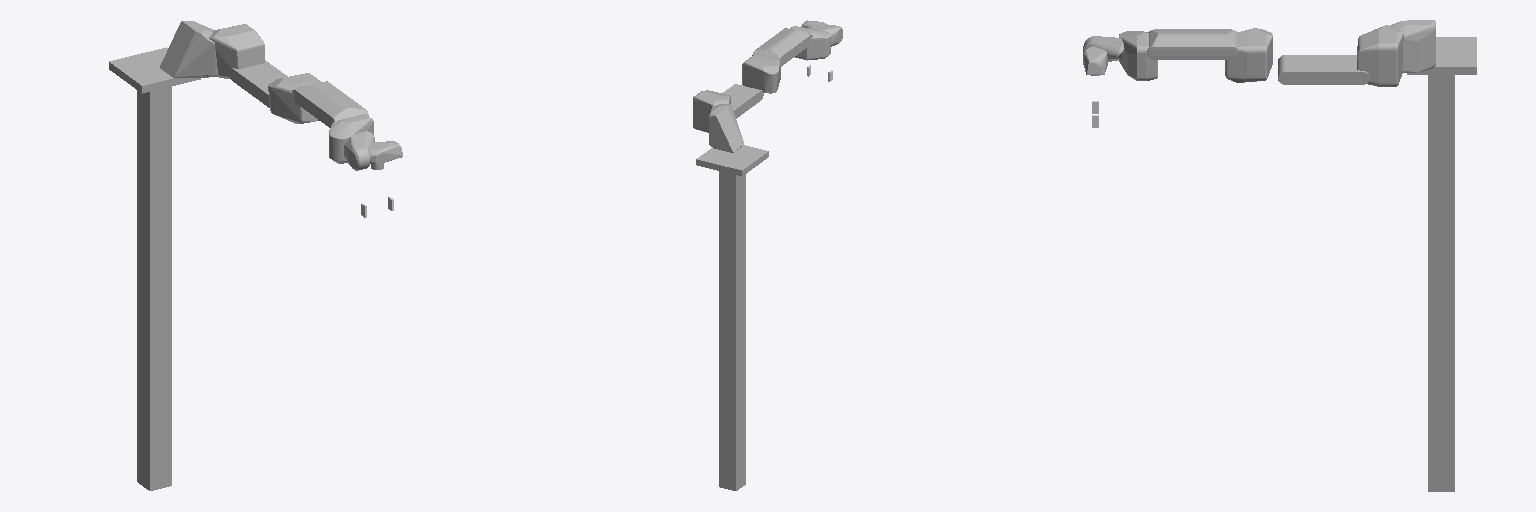
--- What the picture shows (computed from the rendered views, not written in the file) ---
Views: 3 orthographic renders of the robot side by side, from view 1: azimuth 30°, elevation 25°; view 2: azimuth 150°, elevation 25°; view 3: azimuth 270°, elevation 25°.
Model Scorpio with 31 links and 30 joints (7 revolute, 10 continuous, 13 fixed), rooted at world, posed every joint at zero.
Links seen in each view (by area): view 1: tower, scorpio_ground, link1, link6, link5, link4, link7, link9, scorpio_wrist_pitch; view 2: tower, scorpio_ground, link5, link6, link1, link7, link4; view 3: tower, link6, link4, link1, link5, scorpio_ground, link7, link9, scorpio_wrist_pitch.
Link boxes in pixels (left/top/right/bottom): tower: left=109, top=47, right=200, bottom=490; scorpio_ground: left=160, top=21, right=217, bottom=77; link1: left=209, top=24, right=264, bottom=78; link6: left=292, top=81, right=368, bottom=127; link5: left=268, top=73, right=320, bottom=123; link4: left=230, top=60, right=287, bottom=107; link7: left=329, top=114, right=373, bottom=163; link9: left=344, top=131, right=374, bottom=170; scorpio_wrist_pitch: left=370, top=141, right=402, bottom=163; tower: left=696, top=145, right=768, bottom=490; scorpio_ground: left=709, top=104, right=743, bottom=152; link5: left=742, top=54, right=780, bottom=93; link6: left=752, top=28, right=812, bottom=66; link1: left=693, top=90, right=730, bottom=132; link7: left=790, top=26, right=830, bottom=60; link4: left=722, top=84, right=763, bottom=118; tower: left=1407, top=37, right=1476, bottom=491; link6: left=1147, top=29, right=1238, bottom=59; link4: left=1278, top=55, right=1369, bottom=84; link1: left=1357, top=25, right=1403, bottom=86; link5: left=1225, top=28, right=1272, bottom=82; scorpio_ground: left=1390, top=20, right=1435, bottom=72; link7: left=1119, top=31, right=1157, bottom=80; link9: left=1083, top=36, right=1123, bottom=61; scorpio_wrist_pitch: left=1083, top=46, right=1107, bottom=74.
Size in the robot's own frame: 0.3684 by 1.13 by 1.51 metres.
Meshes: 16 distinct files referenced, 8 mesh visuals loaded (8 Collada DAE); not drawn: 12 (reference not matched to a file when rendering).

URDF robot description (Scorpio):
<?xml version="1.0" ?>
<robot name="Scorpio" xmlns:xacro="http://www.ros.org/wiki/xacro">
    <gazebo>
        <plugin name="gazebo_scorpio" filename="libgazebo_scorpio_plugin.so"></plugin>
    </gazebo>
    <link name="world">
    <inertial>
      <origin xyz="0 0 0" rpy="0 0 0" />
      <mass value="0.1" />
      <inertia ixx="0.1" ixy="0.1" ixz="0.1" iyy="0.1" iyz="0.1" izz="0.1" />
    </inertial>
   </link>
   <joint name="tower_mount" type="fixed">
    <!--<origin rpy="0 0 -1.57" xyz="3.5 1.0 0.5"/>-->
    <origin rpy="0 0 -1.57" xyz="0 0 0.5"/>
    <parent link="world"/>
    <child link="tower"/>
   </joint>
  <link name="tower">
    <inertial>
      <origin rpy="0 0 0" xyz="0 0 0.3937"/>
      <mass value="0.1"/>
      <inertia ixx="0.1" ixy="0" ixz="0" iyy="0.1" iyz="0" izz="0.1"/>
    </inertial>
    <visual>
      <origin rpy="0 0 0" xyz="0 0 0.7749"/>
      <geometry>
        <box size="0.200 0.200 0.025"/>
      </geometry>
      <material name="">
        <color rgba="0.75294 0.75294 0.75294 1"/>
      </material>
    </visual>
    <visual>
      <origin rpy="0 0 0" xyz="0 0 0.1"/>
      <geometry>
        <box size="0.0762 0.0762 1.3624"/>
        <!--<box size="0.0762 0.0762 1.7624"/>-->
      </geometry>
      <material name="">
        <color rgba="0.75294 0.75294 0.75294 1"/>
      </material>
    </visual>
  </link>
  <joint name="scorpio_mount" type="fixed">
    <origin rpy="0 0 0" xyz="0.0625 0.0625 0.7874"/>
    <parent link="tower"/>
    <child link="scorpio_mount"/>
  </joint>
  <link name="scorpio_mount">
    <inertial>
      <origin rpy="0 0 0" xyz="0 0 0"/>
      <mass value="0.001"/>
      <inertia ixx="0.0001" ixy="0" ixz="0" iyy="0.0001" iyz="0" izz="0.0001"/>
    </inertial>
  </link>
  <joint name="scorpio_ground" type="fixed">
    <origin rpy="0 0 0" xyz="0.075 0.065 0.087"/>
    <parent link="scorpio_mount"/>
    <child link="scorpio_ground"/>
  </joint>

  <link name="scorpio_ground">
    <inertial>
      <origin rpy="0 0 0" xyz="-0.023864 -0.016007 -0.014551"/>
      <mass value="1.3345"/>
      <inertia ixx="0.0015215" ixy="-0.0010805" ixz="-0.00043127" iyy="0.0022115" iyz="-0.00033943" izz="0.0024629"/>
    </inertial>
    <visual>
      <origin rpy="0 0 0" xyz="0 0 0"/>
      <geometry>
          <mesh filename="package://gazebo_scorpio_plugin/robots/meshes/scorpio_ground_hull.dae"/>
      </geometry>
      <material name="">
        <color rgba="0.75294 0.75294 0.75294 1"/>
      </material>
    </visual>
  </link>

 <joint name="joint1" type="continuous">
  <!--<origin rpy="0 0 0" xyz="0 0 -0.01812"/>-->
  <origin rpy="0 0 0" xyz="0 0 -0.01812"/>
    <parent link="scorpio_ground"/>
    <child link="link1"/>
    <axis xyz="0 0 1"/>
  </joint>

  <link name="link1">
    <inertial>
      <mass value="0.97105910"/>
      <origin rpy="0 0 0" xyz="0.04816471 0.06606926 -0.00752297"/>
      <inertia ixx="0.00212363" ixy="0.00002469" ixz="-0.00023024" iyy="0.00183055" iyz="-0.00000418" izz="0.00162100"/>
    </inertial>
    <visual>
      <origin rpy="0 0 0" xyz="0 0 0"/>
      <geometry>
        <mesh filename="package://gazebo_scorpio_plugin/robots/meshes/scorpio_yaw1_hull.dae"/>
      </geometry>
      <material name="">
        <color rgba="0.752941176470588 0.752941176470588 0.752941176470588 1"/>
      </material>
    </visual>
  </link>
  
   <joint name="joint2" type="continuous">
    <origin xyz="0.09 0.065 0.040025" rpy="-1.5708 0 0" />
    <parent link="link1" />
    <child link="link2" />
    <axis xyz="0 0 1" />
  </joint>

  <link name="link2">
  <inertial>
      <mass value="0.86101268"/>
      <origin rpy="0 0 0" xyz="0.12122970 -0.00077030 0.00730440"/>
      <inertia ixx="0.00102826" ixy="0.00002087" ixz="-0.00011564" iyy="0.00504132" iyz="-0.00000639" izz="0.00576250"/>
    </inertial>
    <visual>
      <origin rpy="1.5708 0 0" xyz="0 0 0"/>
      <geometry>
        <mesh filename="package://gazebo_scorpio_plugin/robots/meshes/parallel__scorpio_elev1__l3_hull.dae"/>
      </geometry>
      <material name="">
        <color rgba="0.752941176470588 0.752941176470588 0.752941176470588 1"/>
      </material>
    </visual>
  </link>

 <joint name="joint3" type="continuous">
    <origin xyz="0.22 0 0" rpy="0 0 0" />
    <parent link="link2" />
    <child link="link3" />
    <axis xyz="0 0 1" />
  </joint>

  <link name="link3">
     <inertial>
      <mass value="0.96506968"/>
      <origin rpy="0 0 0" xyz="0.05539938 -0.04550861 0.03305080"/>
      <inertia ixx="0.00194689" ixy="-0.00041897" ixz="-0.00001187" iyy="0.00108580" iyz="-0.00000204" izz="0.00181433"/>
    </inertial>
    <visual>
      <origin rpy="1.5708 0 0" xyz="0 0.075025 0"/>
      <geometry>
        <mesh filename="package://gazebo_scorpio_plugin/robots/meshes/parallel__scorpio_elev1__l2_hull.dae"/>
      </geometry>
      <material name="">
        <color rgba="0.752941176470588 0.752941176470588 0.752941176470588 1"/>
      </material>
    </visual>
  </link>
 
  <joint name="joint4" type="continuous">
    <origin xyz="0 0.075025 0" rpy="0 0 0" />
    <parent link="link3" />
    <child link="link4" />
    <axis xyz="0 0 1" />
  </joint>

  <link name="link4">
     <inertial>
      <mass value="1.09010204"/>
      <origin rpy="0 0 0" xyz="0.11968406 0.00015676 0.00077126"/>
      <inertia ixx="0.00163433" ixy="-0.00000800" ixz="-0.00013278" iyy="0.00610466" iyz="-0.00000123" izz="0.00721423"/>
    </inertial>
    <visual>
      <origin rpy="1.5708 0 0" xyz="-0.22 0 0"/>
      <geometry>
        <mesh filename="package://gazebo_scorpio_plugin/robots/meshes/parallel__scorpio_elev1__l1_hull.dae"/>
      </geometry>
      <material name="">
        <color rgba="0.752941176470588 0.752941176470588 0.752941176470588 1"/>
      </material>
    </visual>
  </link>


  <joint name="joint5" type="continuous">
    <origin xyz="0.065 0.035 -0.065" rpy="1.5708 0 0" />
    <parent link="link3" />
    <child link="link5" />
    <axis xyz="0 0 1" />
  </joint>


  <link name="link5">
    <inertial>
      <mass value="0.93229200"/>
      <origin rpy="0 0 0" xyz="0.04880378 0.06574464 -0.00765844"/>
      <inertia ixx="0.00175861" ixy="0.00003237" ixz="-0.00022338" iyy="0.00151576" iyz="-0.00000289" izz="0.00153999"/>
    </inertial>
    <visual>
      <origin rpy="0 0 0" xyz="0 0 0"/>
      <geometry>
        <mesh filename="package://gazebo_scorpio_plugin/robots/meshes/scorpio_yaw2_hull.dae"/>
      </geometry>
      <material name="">
        <color rgba="0.752941176470588 0.752941176470588 0.752941176470588 1"/>
      </material>
    </visual>
  </link>
 
  <joint name="joint6" type="continuous">
    <origin xyz="0.09 0.065 0.040025" rpy="-1.5708 0 0" />
    <parent link="link5" />
    <child link="link6" />
    <axis xyz="0 0 1" />
  </joint>

  <link name="link6">
  <inertial>
      <mass value="0.86101268"/>
      <origin rpy="0 0 0" xyz="0.12122970 -0.00077030 0.00730440"/>
      <inertia ixx="0.00102826" ixy="0.00002087" ixz="-0.00011564" iyy="0.00504132" iyz="-0.00000639" izz="0.00576250"/>
    </inertial>
    <visual>
      <origin rpy="1.5708 0 0" xyz="0 0 0"/>
      <geometry>
        <mesh filename="package://gazebo_scorpio_plugin/robots/meshes/parallel__scorpio_elev2__l3_hull.dae"/>
      </geometry>
      <material name="">
        <color rgba="0.752941176470588 0.752941176470588 0.752941176470588 1"/>
      </material>
    </visual>
  </link>

 <joint name="joint7" type="continuous">
    <origin xyz="0.22 0 0" rpy="0 0 0" />
    <parent link="link6" />
    <child link="link7" />
    <axis xyz="0 0 1" />
  </joint>

  <link name="link7">
    <inertial>
      <mass value="0.79358667"/>
      <origin rpy="0 0 0" xyz="0.06851225 0.00134854 0.02888846"/>
      <inertia ixx="0.00084161" ixy="-0.00004494" ixz="-0.00003202" iyy="0.00100312" iyz="0.00000025" izz="0.00102847"/>
    </inertial>
    <visual>
      <origin rpy="1.5708 0 0" xyz="0 0.075025 0"/>
      <geometry>
        <mesh filename="package://gazebo_scorpio_plugin/robots/meshes/parallel__scorpio_elev2__l2_hull.dae"/>
      </geometry>
      <material name="">
        <color rgba="0.752941176470588 0.752941176470588 0.752941176470588 1"/>
      </material>
    </visual>
  </link>

  <joint name="joint8" type="continuous">
    <origin xyz="0 0.075025 0" rpy="0 0 0" />
    <parent link="link7" />
    <child link="link8" />
    <axis xyz="0 0 1" />
  </joint>
 
  <link name="link8"> 
    <inertial>
      <mass value="1.09010204"/>
      <origin rpy="0 0 0" xyz="0.11968406 0.00015676 0.00077126"/>
      <inertia ixx="0.00163433" ixy="-0.00000800" ixz="-0.00013278" iyy="0.00610466" iyz="-0.00000123" izz="0.00721423"/>
    </inertial>
    <visual>
      <origin rpy="1.5708 0 0" xyz="-0.22 0 0"/>
      <geometry>
        <mesh filename="package://gazebo_scorpio_plugin/robots/meshes/parallel__scorpio_elev2__l1_hull.dae"/>
      </geometry>
      <material name="">
        <color rgba="0.752941176470588 0.752941176470588 0.752941176470588 1"/>
      </material>
    </visual>
  </link>

  <link name="link7_end">
    <inertial>
      <origin xyz="0 0 0" rpy="0 0 0" />
      <!--<mass value="0.00000001" />-->
      <!--<inertia ixx="1.e-9" ixy="0.0" ixz="0.0" iyy="1.e-9" iyz="0.0" izz="1.e-9" />-->
      <mass value="0.00001" />
      <inertia ixx="0.00001" ixy="0.0" ixz="0.0" iyy="0.00001" iyz="0.0" izz="0.00001" />
    </inertial>
  </link>

  <joint name="link7_end" type="fixed">
    <origin xyz="0 0.075025 0" rpy="1.5708 0 0" />
    <parent link="link7" />
    <child link="link7_end" />
  </joint>

  <joint name="joint9" type="continuous">
    <origin rpy="0 -0.7854 0" xyz="0.10096 0 0.048529"/>
    <parent link="link7_end" />
    <child link="link9" />
    <axis xyz="0 0 1" />
  </joint>

  <link name="link9">
   <inertial>
      <mass value="0.61742656"/>
      <origin rpy="0 0 0" xyz="0.02618812 -0.06026687 -0.05029391"/>
      <inertia ixx="0.00049346" ixy="-0.00005954" ixz="-0.00015627" iyy="0.00067920" iyz="0.00009425" izz="0.00043236"/>
    </inertial>
    <visual>
      <origin rpy="0 0 0" xyz="0 0 0"/>
      <geometry>
        <mesh filename="package://gazebo_scorpio_plugin/robots/meshes/scorpio_wrist_skewed_hull.dae"/>
      </geometry>
      <material name="">
        <color rgba="0.752941176470588 0.752941176470588 0.752941176470588 1"/>
      </material>
    </visual>
  </link>

  <joint name="joint10" type="continuous">
     <!--<joint name="wrist_pitch" type="fixed"> -->
    <origin rpy="0 0.7854 0" xyz="0.034604 -0.04372 -0.060104"/>
    <parent link="link9"/>
    <child link="scorpio_wrist_pitch"/>
    <axis xyz="0 1 0"/>
    <limit effort="200" lower="-2.2000000" upper="1.0000000" velocity="0"/>
  </joint>

  <link name="scorpio_wrist_pitch">
    <inertial>
      <mass value="0.56501641"/>
      <origin rpy="0 0 0" xyz="-0.00022504 0.05030401 0.00234299"/>
      <inertia ixx="0.00042006" ixy="-0.00000558" ixz="0.00000093" iyy="0.00021226" iyz="-0.00001417" izz="0.00052578"/>
    </inertial>
    <visual>
      <origin rpy="0 0 0" xyz="0 0 0"/>
      <geometry>
        <mesh filename="package://gazebo_scorpio_plugin/robots/meshes/scorpio_wrist_pitch_hull.dae"/>
      </geometry>
      <material name="">
        <color rgba="0.752941176470588 0.752941176470588 0.752941176470588 1"/>
      </material>
    </visual>
  </link>
  <!--===========================WRIST ROLL PRE FT===========================-->
   <!--<joint name="joint11" type="continuous"> -->
  <joint name="joint11" type="revolute">
     <!--<joint name="wrist_roll" type="fixed"> -->
    <origin rpy="0 0 1.5708" xyz="0 0.04372 -0.01728"/>
    <parent link="scorpio_wrist_pitch"/>
    <child link="gripper_attachment_point"/>
    <axis xyz="0 0 1"/>
    <limit effort="200" lower="-3.1416" upper="3.1416" velocity="0"/>
  </joint>
  <link name="gripper_attachment_point">
    <inertial>
      <origin rpy="0 0 0" xyz="0.000 0.000 0.000"/>
      <mass value="0.001"/>
      <inertia ixx="0.0001" ixy="0" ixz="0" iyy="0.0001" iyz="0" izz="0.0001"/>
    </inertial>
  </link>
  <!--===========================FT SENSOR TODO: MASS===========================-->

  <joint name="wrist_ft" type="fixed">
    <origin rpy="0 0 0" xyz="0.000 0.000 -0.028"/>
    <parent link="gripper_attachment_point"/>
    <child link="wrist_ft"/>
   </joint>

  <link name="wrist_ft">
    <inertial>
      <origin rpy="0 0 0" xyz="0.000 0.000 0.000"/>
      <mass value="0.050"/>
      <inertia ixx="0.0001" ixy="0" ixz="0" iyy="0.0001" iyz="0" izz="0.0001"/>
    </inertial>
    <visual>
      <origin rpy="0 0 0" xyz="0 0 0.014"/>
      <geometry>
        <cylinder length="0.028" radius="0.020"/>
      </geometry>
      <material name="">
        <color rgba="0.752941176470588 0.752941176470588 0.752941176470588 1"/>
      </material>
    </visual>
  </link>
<!-- #################################### -->
<!--
  <joint name="graiper_base" type="fixed">
    <origin rpy="3.1415 0 0" xyz="0.000 0.000 0.000"/>
    <parent link="wrist_ft"/>
    <child link="robotiq_85_base_link"/>
   </joint>

  <link name="robotiq_85_base_link">
    <inertial>
      <origin
        xyz="0.00021987 -2.3546E-10 0.030163"
        rpy="0 0 0" />
      <mass
        value="0.30915" />
      <inertia
        ixx="0.00028972"
        ixy="-5.7879E-10"
        ixz="-1.8543E-06"
        iyy="0.00030737"
        iyz="1.682E-12"
        izz="0.00019914" />
    </inertial>
    <visual>
      <origin
        xyz="0 0 0"
        rpy="0 0 0" />
      <geometry>
        <mesh
          filename="package://gazebo_scorpio_plugin/robots/meshes/robotiq_85_base_link_fine.STL" />
      </geometry>
      <material
        name="">
        <color
          rgba="0.1 0.1 0.1 1" />
      </material>
    </visual>
    <collision>
      <origin
        xyz="0 0 0"
        rpy="0 0 0" />
      <geometry>
        <mesh
          filename="package://gazebo_scorpio_plugin/robots/meshes/robotiq_85_base_link_coarse.STL" />
      </geometry>
    </collision>
  </link>
  <link
    name="left_outer_knuckle">
    <inertial>
      <origin
        xyz="0.0178331863169983 3.68915177224286E-11 0.0021442477325704"
        rpy="0 0 0" />
      <mass
        value="0.00684838849434396" />
      <inertia
        ixx="2.66832029033166E-07"
        ixy="1.66142314639824E-15"
        ixz="1.45945633322873E-07"
        iyy="1.3889233257419E-06"
        iyz="2.82951161241588E-15"
        izz="1.26603336914415E-06" />
    </inertial>
    <visual>
      <origin
        xyz="0 0 0"
        rpy="0 0 0" />
      <geometry>
        <mesh
          filename="package://gazebo_scorpio_plugin/robots/meshes/outer_knuckle_fine.STL" />
      </geometry>
      <material
        name="">
        <color
          rgba="0.1 0.1 0.1 1" />
      </material>
    </visual>
    <collision>
      <origin
        xyz="0 0 0"
        rpy="0 0 0" />
      <geometry>
        <mesh
          filename="package://gazebo_scorpio_plugin/robots/meshes/outer_knuckle_coarse.STL" />
      </geometry>
    </collision>
  </link>
  <joint
    name="finger_joint"
    type="fixed">
    <origin
      xyz="0.0306011444260539 0 0.0627920162695395"
      rpy="0 0 0" />
    <parent
      link="robotiq_85_base_link" />
    <child
      link="left_outer_knuckle" />
    <axis
      xyz="0 -1 0" />
    <limit
      lower="0"
      upper="0.725"
      velocity="2.0"
      effort="1000" />
  </joint>
  <link
    name="left_outer_finger">
    <inertial>
      <origin
        xyz="0.00131451599174296 2.88942057994543E-15 0.0215404163180413"
        rpy="0 0 0" />
      <mass
        value="0.0273093985570947" />
      <inertia
        ixx="8.51629628283022E-06"
        ixy="2.58174336207405E-19"
        ixz="3.83829504344079E-07"
        iyy="6.9133328065108E-06"
        iyz="-7.58589926143789E-19"
        izz="2.25006832221981E-06" />
    </inertial>
    <visual>
      <origin
        xyz="0 0 0"
        rpy="0 0 0" />
      <geometry>
        <mesh
          filename="package://gazebo_scorpio_plugin/robots/meshes/outer_finger_fine.STL" />
      </geometry>
      <material
        name="">
        <color
          rgba="0.1 0.1 0.1 1" />
      </material>
    </visual>
    <collision>
      <origin
        xyz="0 0 0"
        rpy="0 0 0" />
      <geometry>
        <mesh
          filename="package://gazebo_scorpio_plugin/robots/meshes/outer_finger_coarse.STL" />
      </geometry>
    </collision>
  </link>
  <joint
    name="left_outer_finger_joint"
    type="fixed">
    <origin
      xyz="0.0316910442266543 0 -0.00193396375724605"
      rpy="0 0 0" />
    <parent
      link="left_outer_knuckle" />
    <child
      link="left_outer_finger" />
    <axis
      xyz="0 -1 0" />
  </joint>
  <link
    name="left_inner_knuckle">
    <inertial>
      <origin
        xyz="0.017097546626628 -3.93808524389535E-10 0.0224918438201868"
        rpy="0 0 0" />
      <mass
        value="0.0110930853895903" />
      <inertia
        ixx="4.23392770691541E-06"
        ixy="5.748978936968E-15"
        ixz="1.78855677119788E-06"
        iyy="3.96548790524392E-06"
        iyz="1.05464666369669E-14"
        izz="3.24068002883007E-06" />
    </inertial>
    <visual>
      <origin
        xyz="0 0 0"
        rpy="0 0 0" />
      <geometry>
        <mesh
          filename="package://gazebo_scorpio_plugin/robots/meshes/inner_knuckle_fine.STL" />
      </geometry>
      <material
        name="">
        <color
          rgba="0.1 0.1 0.1 1" />
      </material>
    </visual>
    <collision>
      <origin
        xyz="0 0 0"
        rpy="0 0 0" />
      <geometry>
        <mesh
          filename="package://gazebo_scorpio_plugin/robots/meshes/inner_knuckle_coarse.STL" />
      </geometry>
    </collision>
  </link>
  <joint
    name="left_inner_knuckle_joint"
    type="fixed">
    <origin
      xyz="0.0127000000001501 0 0.0693074999999639"
      rpy="0 0 0" />
    <parent
      link="robotiq_85_base_link" />
    <child
      link="left_inner_knuckle" />
    <axis
      xyz="0 -1 0" />
    <limit
      lower="0"
      upper="0.8757"
      velocity="2.0"
      effort="1000" />
    <mimic 
      joint="finger_joint"
      multiplier="1"
      offset="0" />
  </joint>
  <link
    name="left_inner_finger">
    <inertial>
      <origin
        xyz="0.0060275613594574 -6.29183141465421E-15 0.00669925693133241"
        rpy="0 0 0" />
      <mass
        value="0.00724255346165745" />
      <inertia
        ixx="1.47824274053603E-06"
        ixy="-3.94884463570303E-19"
        ixz="-3.45268847648622E-07"
        iyy="1.70064480838395E-06"
        iyz="3.5059838910097E-19"
        izz="4.77151336838364E-07" />
    </inertial>
    <visual>
      <origin
        xyz="0 0 0"
        rpy="0 0 0" />
      <geometry>
        <mesh
          filename="package://gazebo_scorpio_plugin/robots/meshes/inner_finger_fine.STL" />
      </geometry>
      <material
        name="">
        <color
          rgba="0.1 0.1 0.1 1" />
      </material>
    </visual>
    <collision>
      <origin
        xyz="0 0 0"
        rpy="0 0 0" />
      <geometry>
        <mesh
          filename="package://gazebo_scorpio_plugin/robots/meshes/inner_finger_coarse.STL" />
      </geometry>
    </collision>
  </link>
  <joint
    name="left_inner_finger_joint"
    type="fixed">
    <origin
      xyz="0.034585310861294 0 0.0454970193817975"
      rpy="0 0 0" />
    <parent
      link="left_inner_knuckle" />
    <child
      link="left_inner_finger" />
    <axis
      xyz="0 -1 0" />
    <limit
      lower="0"
      upper="0.8757"
      velocity="2.0"
      effort="1000" />
    <mimic 
      joint="finger_joint"
      multiplier="-1"
      offset="0" />
  </joint>
  <link
    name="right_inner_knuckle">
    <inertial>
      <origin
        xyz="0.0168606186773776 3.93808471820465E-10 0.0226699950793434"
        rpy="0 0 0" />
      <mass
        value="0.0110930853895903" />
      <inertia
        ixx="4.27134775939882E-06"
        ixy="-8.53568456728898E-15"
        ixz="1.77774229944246E-06"
        iyy="3.96548790524392E-06"
        iyz="-8.45108024914164E-15"
        izz="3.20325997634666E-06" />
    </inertial>
    <visual>
      <origin
        xyz="0 0 0"
        rpy="0 0 0" />
      <geometry>
        <mesh
          filename="package://gazebo_scorpio_plugin/robots/meshes/inner_knuckle_fine.STL" />
      </geometry>
      <material
        name="">
        <color
          rgba="0.1 0.1 0.1 1" />
      </material>
    </visual>
    <collision>
      <origin
        xyz="0 0 0"
        rpy="0 0 0" />
      <geometry>
        <mesh
          filename="package://gazebo_scorpio_plugin/robots/meshes/inner_knuckle_coarse.STL" />
      </geometry>
    </collision>
  </link>
  <joint
    name="right_inner_knuckle_joint"
    type="fixed">
    <origin
      xyz="-0.0126999999998499 0 0.0693075000000361"
      rpy="0 0 3.14159265358979" />
    <parent
      link="robotiq_85_base_link" />
    <child
      link="right_inner_knuckle" />
    <axis
      xyz="0 1 0" />
    <limit
      lower="0"
      upper="0.8757"
      velocity="2.0"
      effort="1000" />
    <mimic 
      joint="finger_joint"
      multiplier="-1"
      offset="0" />
  </joint>
  <link
    name="right_inner_finger">
    <inertial>
      <origin
        xyz="0.00602756228812038 -6.47284509480176E-15 0.00669925609578108"
        rpy="0 0 0" />
      <mass
        value="0.00724255346165744" />
      <inertia
        ixx="1.47824283625957E-06"
        ixy="-3.95952064019123E-19"
        ixz="-3.45268708875543E-07"
        iyy="1.70064480838394E-06"
        iyz="3.55286507960029E-19"
        izz="4.77151241114822E-07" />
    </inertial>
    <visual>
      <origin
        xyz="0 0 0"
        rpy="0 0 0" />
      <geometry>
        <mesh
          filename="package://gazebo_scorpio_plugin/robots/meshes/inner_finger_fine.STL" />
      </geometry>
      <material
        name="">
        <color
          rgba="0.1 0.1 0.1 1" />
      </material>
    </visual>
    <collision>
      <origin
        xyz="0 0 0"
        rpy="0 0 0" />
      <geometry>
        <mesh
          filename="package://gazebo_scorpio_plugin/robots/meshes/inner_finger_coarse.STL" />
      </geometry>
    </collision>
  </link>
  <joint
    name="right_inner_finger_joint"
    type="fixed">
    <origin
      xyz="0.0341060475457406 0 0.0458573878541688"
      rpy="0 0 0" />
    <parent
      link="right_inner_knuckle" />
    <child
      link="right_inner_finger" />
    <axis
      xyz="0 1 0" />
    <limit
      lower="0"
      upper="0.8757"
      velocity="2.0"
      effort="1000" />
    <mimic 
      joint="finger_joint"
      multiplier="1"
      offset="0" />
  </joint>
  <link
    name="right_outer_knuckle">
    <inertial>
      <origin
        xyz="0.0178097074051638 3.60493211424024E-11 0.00233123458346721"
        rpy="0 0 0" />
      <mass
        value="0.00684838849401352" />
      <inertia
        ixx="2.70004361573169E-07"
        ixy="1.59579467624491E-15"
        ixz="1.56396493788199E-07"
        iyy="1.38892332558312E-06"
        iyz="2.82357800318817E-15"
        izz="1.26286103637978E-06" />
    </inertial>
    <visual>
      <origin
        xyz="0 0 0"
        rpy="0 0 0" />
      <geometry>
        <mesh
          filename="package://gazebo_scorpio_plugin/robots/meshes/outer_knuckle_fine.STL" />
      </geometry>
      <material
        name="">
        <color
          rgba="0.1 0.1 0.1 1" />
      </material>
    </visual>
    <collision>
      <origin
        xyz="0 0 0"
        rpy="0 0 0" />
      <geometry>
        <mesh
          filename="package://gazebo_scorpio_plugin/robots/meshes/outer_knuckle_coarse.STL" />
      </geometry>
    </collision>
  </link>
  <joint
    name="right_outer_knuckle_joint"
    type="fixed">
    <origin
      xyz="-0.0306011444258893 0 0.0627920162695395"
      rpy="0 0 3.14159265358979" />
    <parent
      link="robotiq_85_base_link" />
    <child
      link="right_outer_knuckle" />
    <axis
      xyz="0 1 0" />
    <limit
      lower="0"
      upper="0.8757"
      velocity="2.0"
      effort="1000" />
    <mimic 
      joint="finger_joint"
      multiplier="-1"
      offset="0" />
  </joint>
  <link name="right_outer_finger">
    <inertial>
      <origin
        xyz="0.00108844269639009 -2.611488350845E-15 0.0215530225245502"
        rpy="0 0 0" />
      <mass
        value="0.0273093985570947" />
      <inertia
        ixx="8.52366028592721E-06"
        ixy="3.41683380899422E-19"
        ixz="3.18003675694284E-07"
        iyy="6.91333280651081E-06"
        iyz="7.37726682706417E-19"
        izz="2.24270431912283E-06" />
    </inertial>
    <visual>
      <origin
        xyz="0 0 0"
        rpy="0 0 0" />
      <geometry>
        <mesh
          filename="package://gazebo_scorpio_plugin/robots/meshes/outer_finger_fine.STL" />
      </geometry>
      <material name="">
        <color rgba="0.1 0.1 0.1 1" />
      </material>
    </visual>
    <collision>
      <origin
        xyz="0 0 0"
        rpy="0 0 0" />
      <geometry>
        <mesh
          filename="package://gazebo_scorpio_plugin/robots/meshes/outer_finger_coarse.STL" />
      </geometry>
    </collision>
  </link>
  <joint
    name="right_outer_finger_joint"
    type="fixed">
    <origin
      xyz="0.0317095909367246 0 -0.0016013564954687"
      rpy="0 0 0" />
    <parent
      link="right_outer_knuckle" />
    <child
      link="right_outer_finger" />
    <axis
      xyz="0 1 0" />
  </joint>
-->
  <!--===========================END EFFECTOR===========================-->
<!--
  <joint name="end_effector" type="fixed">
    <origin rpy="0 1.570796326 0" xyz="0.000 0.000 -0.0805"/>
    <parent link="robotiq_85_base_link"/>
    <child link="end_effector"/>
  </joint>
  <link name="end_effector">
    <inertial>
      <origin rpy="0 0 0" xyz="0.000 0.000 0.000"/>
      <mass value="0.001"/>
      <inertia ixx="0.0001" ixy="0" ixz="0" iyy="0.0001" iyz="0" izz="0.0001"/>
    </inertial>
  </link>

  <link name="link4_end">
    <inertial>
      <origin xyz="0 0 0" rpy="0 0 0" />
      <mass value="0.00001" />
      <inertia ixx="0.00001" ixy="0.00001" ixz="0.00001" iyy="0.00001" iyz="0.00001" izz="0.00001" />
    </inertial>
  </link>
  <joint name="link4_end" type="fixed">
    <origin xyz="-0.22 0 0" rpy="0 0 0" />
    <parent link="link4" />
    <child link="link4_end" />
</joint>

  <link name="link8_end">
    <inertial>
      <origin xyz="0 0 0" rpy="0 0 0" />
      <mass value="0.00001" />
      <inertia ixx="0.00001" ixy="0.00001" ixz="0.00001" iyy="0.00001" iyz="0.00001" izz="0.00001" />
    </inertial>
  </link>
  <joint name="link8_end" type="fixed">
    <origin xyz="-0.22 0 0" rpy="0 0 0" />
    <parent link="link8" />
    <child link="link8_end" />
  </joint>
-->

<!-- ################################################################# -->
<!-- Not sure if this is used or necessary for PnC/Scorpio -->
<!--     <link name="tool_frame"/>
    <joint name="tool_frame_joint" type="fixed">
        <origin xyz="0 0 0.120" rpy="0 0 0" />
        <parent link="gripper_attachment_point" />
        <parent link="wrist_ft" />
        <child link="tool_frame" />
        <axis xyz="0 0 0" />
    </joint> -->
  <link name="end_effector">
      <inertial>
      <origin rpy="0 0 0" xyz="0.000 0.000 0.000"/>
      <mass value="0.001"/>
      <inertia ixx="0.0001" ixy="0" ixz="0" iyy="0.0001" iyz="0" izz="0.0001"/>
    </inertial>
  </link>
  <joint name="end_effector" type="fixed">
      <origin xyz="0 0 0.120" rpy="0 0 0" />
      <!-- <origin xyz="0 0 -0.0805" rpy="0 1.570796326 0" /> -->
      <parent link="robotiq_arg2f_base_link" />
      <child link="end_effector" />
      <axis xyz="0 0 0" />
  </joint>    
<!-- ########################################################################### -->
    <!-- This joint was added by Kinova -->
  <joint name="gripper_base_joint" type="fixed">
      <!-- <parent link="gripper_attachment_point"/> -->
      <parent link="wrist_ft"/>
      <child link="robotiq_arg2f_base_link"/>
      <origin rpy="3.1415 0 1.57" xyz="0.000 0.000 0.000"/>
      <!-- <origin rpy="3.1415 0 0" xyz="0.000 0.000 0.000"/> -->
      <!-- <origin rpy="0.0 0.0 1.57" xyz="0.0 0.0 0.0"/> -->
  </joint>

  <link name="robotiq_arg2f_base_link">
    <inertial>
      <origin xyz="8.625E-08 -4.6583E-06 0.03145" rpy="0 0 0" />
      <mass value="0.22652" />
      <inertia ixx="0.00020005" ixy="-4.2442E-10" ixz="-2.9069E-10" iyy="0.00017832" iyz="-3.4402E-08" izz="0.00013478" />
    </inertial>
    <visual>
      <origin xyz="0 0 0" rpy="0 0 0" />
      <geometry>
        <mesh filename="package://kortex_description/grippers/robotiq_2f_85/meshes/collision/robotiq_arg2f_base_link.stl" />
      </geometry>
      <material name="">
        <color rgba="0.1 0.1 0.1 1" />
      </material>
    </visual>
    <collision>
      <origin xyz="0 0 0" rpy="0 0 0" />
      <geometry>
         <mesh filename="package://kortex_description/grippers/robotiq_2f_85/meshes/collision/robotiq_arg2f_base_link.stl" />
      </geometry>
    </collision>
  </link>

  <gazebo reference="robotiq_arg2f_base_link">
    <material>Gazebo/Black</material>
  </gazebo>

<!-- ################################################################# -->
<!-- ################# LEFT LINKS #################### -->

  <link name="left_outer_knuckle">
    <inertial>
      <origin xyz="-0.000200000000003065 0.0199435877845359 0.0292245259211331" rpy="0 0 0" />
      <mass value="0.00853198276973456" />
      <inertia ixx="2.89328108496468E-06" ixy="-1.57935047237397E-19" ixz="-1.93980378593255E-19" iyy="1.86719750325683E-06" iyz="-1.21858577871576E-06" izz="1.21905238907251E-06" />
    </inertial>
    <visual>
      <origin xyz="0 0 0" rpy="0 0 0" />
      <geometry>
        <mesh filename="package://kortex_description/grippers/robotiq_2f_85/meshes/visual/robotiq_arg2f_85_outer_knuckle.dae" scale="0.001 0.001 0.001"/>
      </geometry>
      <material name="">
        <color rgba="0.792156862745098 0.819607843137255 0.933333333333333 1" />
      </material>
    </visual>
    <collision>
      <origin xyz="0 0 0" rpy="0 0 0" />
      <geometry>
        <mesh filename="package://kortex_description/grippers/robotiq_2f_85/meshes/collision/robotiq_arg2f_85_outer_knuckle.dae" scale="0.001 0.001 0.001"/>
      </geometry>
    </collision>
  </link>

  <link name="left_outer_finger">
    <inertial>
      <origin xyz="0.00030115855001899 0.0373907951953854 -0.0208027427000385" rpy="0 0 0" />
      <mass value="0.022614240507152" />
      <inertia ixx="1.52518312458174E-05" ixy="9.76583423954399E-10" ixz="-5.43838577022588E-10" iyy="6.17694243867776E-06" iyz="6.78636130740228E-06" izz="1.16494917907219E-05" />
    </inertial>
    <visual>
      <origin xyz="0 0 0" rpy="0 0 0" />
      <geometry>
        <mesh filename="package://kortex_description/grippers/robotiq_2f_85/meshes/visual/robotiq_arg2f_85_outer_finger.dae" scale="0.001 0.001 0.001"/>
      </geometry>
      <material name="">
        <color rgba="0.1 0.1 0.1 1" />
      </material>
    </visual>
    <collision>
      <origin xyz="0 0 0" rpy="0 0 0" />
      <geometry>
        <mesh filename="package://kortex_description/grippers/robotiq_2f_85/meshes/collision/robotiq_arg2f_85_outer_finger.dae" scale="0.001 0.001 0.001"/>
      </geometry>
    </collision>
  </link>

  <link name="left_inner_knuckle">
    <inertial>
      <origin xyz="0.000123011831763771 0.0507850843201817 0.00103968640075166" rpy="0 0 0" />
     <mass value="0.0271177346495152" />
      <inertia ixx="2.61910379223783E-05" ixy="-2.43616858946494E-07" ixz="-6.37789906117123E-09" iyy="2.8270243746167E-06" iyz="-5.37200748039765E-07" izz="2.83695868220296E-05" />
    </inertial>
    <visual>
      <origin xyz="0 0 0" rpy="0 0 0" />
      <geometry>
        <mesh filename="package://kortex_description/grippers/robotiq_2f_85/meshes/visual/robotiq_arg2f_85_inner_knuckle.dae" scale="0.001 0.001 0.001"/>
      </geometry>
      <material name="">
        <color rgba="0.1 0.1 0.1 1" />
      </material>
    </visual>
    <collision>
      <origin xyz="0 0 0" rpy="0 0 0" />
      <geometry>
        <mesh filename="package://kortex_description/grippers/robotiq_2f_85/meshes/collision/robotiq_arg2f_85_inner_knuckle.dae" scale="0.001 0.001 0.001"/>
      </geometry>
    </collision>
  </link>

  <link name="left_inner_finger">
    <inertial>
      <origin xyz="0.000299999999999317 0.0160078233491243 -0.0136945669206257" rpy="0 0 0" />
      <mass value="0.0104003125914103" />
      <inertia ixx="2.71909453810972E-06" ixy="1.35402465472579E-21" ixz="-7.1817349065269E-22" iyy="7.69100314106116E-07" iyz="6.74715432769696E-07" izz="2.30315190420171E-06" />
    </inertial> 
    <visual>
      <origin xyz="0 0 0" rpy="0 0 0" />
      <geometry>
        <mesh filename="package://kortex_description/grippers/robotiq_2f_85/meshes/visual/robotiq_arg2f_85_inner_finger.dae" scale="0.001 0.001 0.001"/>
      </geometry>
      <material name="">
        <color rgba="0.1 0.1 0.1 1" />
      </material>
    </visual>
    <collision>
      <origin xyz="0 0 0" rpy="0 0 0" />
      <geometry>
        <mesh filename="package://kortex_description/grippers/robotiq_2f_85/meshes/collision/robotiq_arg2f_85_inner_finger.dae" scale="0.001 0.001 0.001" />
      </geometry>
    </collision>
  </link>

  <link name="left_inner_finger_pad">
    <visual>
      <origin xyz="0 0 0" rpy="0 0 0" />
      <geometry>
        <box size="0.022 0.00635 0.0375"/>
      </geometry>
      <material name="">
        <color rgba="0.9 0.9 0.9 1" />
      </material>
    </visual>
    <collision>
      <origin xyz="0 0 0" rpy="0 0 0" />
      <geometry>
         <box size="0.022 0.00635 0.0375"/>
      </geometry>
      <material name="">
        <color rgba="0.9 0.0 0.0 1" />
      </material>
    </collision>
  </link>

<!-- ################# RIGHT LINKS #################### -->
 <link name="right_outer_knuckle">
    <inertial>
      <origin xyz="-0.000200000000003065 0.0199435877845359 0.0292245259211331" rpy="0 0 0" />
      <mass value="0.00853198276973456" />
      <inertia ixx="2.89328108496468E-06" ixy="-1.57935047237397E-19" ixz="-1.93980378593255E-19" iyy="1.86719750325683E-06" iyz="-1.21858577871576E-06" izz="1.21905238907251E-06" />
    </inertial>
    <visual>
      <origin xyz="0 0 0" rpy="0 0 0" />
      <geometry>
        <mesh filename="package://kortex_description/grippers/robotiq_2f_85/meshes/visual/robotiq_arg2f_85_outer_knuckle.dae" scale="0.001 0.001 0.001"/>
      </geometry>
      <material name="">
        <color rgba="0.792156862745098 0.819607843137255 0.933333333333333 1" />
      </material>
    </visual>
    <collision>
      <origin xyz="0 0 0" rpy="0 0 0" />
      <geometry>
        <mesh filename="package://kortex_description/grippers/robotiq_2f_85/meshes/collision/robotiq_arg2f_85_outer_knuckle.dae" scale="0.001 0.001 0.001"/>
      </geometry>
    </collision>
  </link>
  
  <link name="right_outer_finger">
    <inertial>
      <origin xyz="0.00030115855001899 0.0373907951953854 -0.0208027427000385" rpy="0 0 0" />
      <mass value="0.022614240507152" />
      <inertia ixx="1.52518312458174E-05" ixy="9.76583423954399E-10" ixz="-5.43838577022588E-10" iyy="6.17694243867776E-06" iyz="6.78636130740228E-06" izz="1.16494917907219E-05" />
    </inertial>
    <visual>
      <origin xyz="0 0 0" rpy="0 0 0" />
      <geometry>
        <mesh filename="package://kortex_description/grippers/robotiq_2f_85/meshes/visual/robotiq_arg2f_85_outer_finger.dae" scale="0.001 0.001 0.001"/>
      </geometry>
      <material name="">
        <color rgba="0.1 0.1 0.1 1" />
      </material>
    </visual>
    <collision>
      <origin xyz="0 0 0" rpy="0 0 0" />
      <geometry>
        <mesh filename="package://kortex_description/grippers/robotiq_2f_85/meshes/collision/robotiq_arg2f_85_outer_finger.dae" scale="0.001 0.001 0.001"/>
      </geometry>
    </collision>
  </link>

  <link name="right_inner_knuckle">
    <inertial>
      <origin xyz="0.000123011831763771 0.0507850843201817 0.00103968640075166" rpy="0 0 0" />
     <mass value="0.0271177346495152" />
      <inertia ixx="2.61910379223783E-05" ixy="-2.43616858946494E-07" ixz="-6.37789906117123E-09" iyy="2.8270243746167E-06" iyz="-5.37200748039765E-07" izz="2.83695868220296E-05" />
    </inertial>
    <visual>
      <origin xyz="0 0 0" rpy="0 0 0" />
      <geometry>
        <mesh filename="package://kortex_description/grippers/robotiq_2f_85/meshes/visual/robotiq_arg2f_85_inner_knuckle.dae" scale="0.001 0.001 0.001"/>
      </geometry>
      <material name="">
        <color rgba="0.1 0.1 0.1 1" />
      </material>
    </visual>
    <collision>
      <origin xyz="0 0 0" rpy="0 0 0" />
      <geometry>
        <mesh filename="package://kortex_description/grippers/robotiq_2f_85/meshes/collision/robotiq_arg2f_85_inner_knuckle.dae" scale="0.001 0.001 0.001"/>
      </geometry>
    </collision>
  </link>

  <link name="right_inner_finger">
    <inertial>
      <origin xyz="0.000299999999999317 0.0160078233491243 -0.0136945669206257" rpy="0 0 0" />
      <mass value="0.0104003125914103" />
      <inertia ixx="2.71909453810972E-06" ixy="1.35402465472579E-21" ixz="-7.1817349065269E-22" iyy="7.69100314106116E-07" iyz="6.74715432769696E-07" izz="2.30315190420171E-06" />
    </inertial> 
    <visual>
      <origin xyz="0 0 0" rpy="0 0 0" />
      <geometry>
        <mesh filename="package://kortex_description/grippers/robotiq_2f_85/meshes/visual/robotiq_arg2f_85_inner_finger.dae" scale="0.001 0.001 0.001"/>
      </geometry>
      <material name="">
        <color rgba="0.1 0.1 0.1 1" />
      </material>
    </visual>
    <collision>
      <origin xyz="0 0 0" rpy="0 0 0" />
      <geometry>
        <mesh filename="package://kortex_description/grippers/robotiq_2f_85/meshes/collision/robotiq_arg2f_85_inner_finger.dae" scale="0.001 0.001 0.001" />
      </geometry>
    </collision>
  </link>

  <link name="right_inner_finger_pad">
    <visual>
      <origin xyz="0 0 0" rpy="0 0 0" />
      <geometry>
        <box size="0.022 0.00635 0.0375"/>
      </geometry>
      <material name="">
        <color rgba="0.9 0.9 0.9 1" />
      </material>
    </visual>
    <collision>
      <origin xyz="0 0 0" rpy="0 0 0" />
      <geometry>
         <box size="0.022 0.00635 0.0375"/>
      </geometry>
      <material name="">
        <color rgba="0.9 0.0 0.0 1" />
      </material>
    </collision>
  </link>

<!-- ################# LEFT JOINTS #################### -->

  <joint name="finger_joint" type="revolute">
    <origin xyz="0 -0.0306011 0.054904" rpy="0 0 3.141592"/>
    <parent link="robotiq_arg2f_base_link" />
    <child link="left_outer_knuckle" />
    <axis xyz="1 0 0" />
    <limit lower="0" upper="0.8" velocity="2.0" effort="1000" />
  </joint>

  <joint name="left_outer_finger_joint" type="fixed">
    <origin xyz="0 0.0315 -0.0041" rpy="0 0 0"/>
    <parent link="left_outer_knuckle" />
    <child link="left_outer_finger" />
    <axis xyz="1 0 0" />
  </joint>

  <joint name="left_inner_finger_joint" type="revolute">
    <origin xyz="0 0.0061 0.0471" rpy="0 0 0"/>
    <parent link="left_outer_finger" />
    <child link="left_inner_finger" />
    <axis xyz="1 0 0" />
    <limit lower="-0.8757" upper="0.8757" velocity="2.0" effort="1000" />
    <mimic joint="finger_joint" multiplier="-1" offset="0" />
  </joint>

  <joint name="left_inner_finger_pad_joint" type="fixed">
    <origin xyz="0 -0.0220203446692936 0.03242" rpy="0 0 0"/>
    <parent link="left_inner_finger" />
    <child link="left_inner_finger_pad" />
    <axis xyz="0 0 1" />
  </joint>

  <joint name="left_inner_knuckle_joint" type="revolute">
    <!-- <origin xyz="0 ${reflect * -0.0127} 0.06142" rpy="${pi / 2 + .725} 0 ${(reflect - 1) * pi / 2}" /> -->
    <origin xyz="0 0.0127 0.06142" rpy="0 0 0"/>
    <parent link="robotiq_arg2f_base_link" />
    <child link="left_inner_knuckle" />
    <axis xyz="1 0 0" />
    <limit lower="0" upper="0.8757" velocity="2.0" effort="1000" />
    <mimic joint="finger_joint" multiplier="1" offset="0" />
  </joint>

<!-- ################# RIGHT JOINTS #################### -->

  <joint name="right_outer_knuckle_joint" type="revolute">
    <origin xyz="0 0.0306011 0.054904" rpy="0 0 0"/>
    <parent link="robotiq_arg2f_base_link" />
    <child link="right_outer_knuckle" />
    <axis xyz="1 0 0" />
    <limit lower="0" upper="0.81" velocity="2.0" effort="1000" />
    <mimic joint="finger_joint" multiplier="1" offset="0" />
  </joint>

  <joint name="right_outer_finger_joint" type="fixed">
    <origin xyz="0 0.0315 -0.0041" rpy="0 0 0"/>
    <parent link="right_outer_knuckle" />
    <child link="right_outer_finger" />
    <axis xyz="1 0 0" />
  </joint>

  <joint name="right_inner_finger_joint" type="revolute">
    <origin xyz="0 0.0061 0.0471" rpy="0 0 0"/>
    <parent link="right_outer_finger" />
    <child link="right_inner_finger" />
    <axis xyz="1 0 0" />
    <limit lower="-0.8757" upper="0.8757" velocity="2.0" effort="1000" />
    <mimic joint="finger_joint" multiplier="-1" offset="0" />
  </joint>
  
  <joint name="right_inner_finger_pad_joint" type="fixed">
    <origin xyz="0 -0.0220203446692936 0.03242" rpy="0 0 0"/>
    <parent link="right_inner_finger" />
    <child link="right_inner_finger_pad" />
    <axis xyz="0 0 1" />
  </joint>

  <joint name="right_inner_knuckle_joint" type="revolute">
    <!-- <origin xyz="0 ${reflect * -0.0127} 0.06142" rpy="${pi / 2 + .725} 0 ${(reflect - 1) * pi / 2}" /> -->
    <origin xyz="0 -0.0127 0.06142" rpy="0 0 3.141592"/>
    <parent link="robotiq_arg2f_base_link" />
    <child link="right_inner_knuckle" />
    <axis xyz="1 0 0" />
    <limit lower="0" upper="0.8757" velocity="2.0" effort="1000" />
    <mimic joint="finger_joint" multiplier="1" offset="0" />
  </joint>
<!--   <xacro:macro name="finger_joints" params="prefix fingerprefix reflect">
    <xacro:outer_finger_joint prefix="${prefix}" fingerprefix="${fingerprefix}"/>
    <xacro:inner_knuckle_joint prefix="${prefix}" fingerprefix="${fingerprefix}" reflect="${reflect}"/>
    <xacro:inner_finger_joint prefix="${prefix}" fingerprefix="${fingerprefix}"/>
    <xacro:inner_finger_pad_joint prefix="${prefix}" fingerprefix="${fingerprefix}"/>
  </xacro:macro>

  <xacro:macro name="finger_links" params="prefix fingerprefix stroke">
    <xacro:outer_knuckle prefix="${prefix}" fingerprefix="${fingerprefix}" stroke="${stroke}"/>
    <xacro:outer_finger prefix="${prefix}" fingerprefix="${fingerprefix}" stroke="${stroke}"/>
    <xacro:inner_finger prefix="${prefix}" fingerprefix="${fingerprefix}" stroke="${stroke}"/>
    <xacro:inner_finger_pad prefix="${prefix}" fingerprefix="${fingerprefix}"/>
    <xacro:inner_knuckle prefix="${prefix}" fingerprefix="${fingerprefix}" stroke="${stroke}"/>
  </xacro:macro> -->

<!-- ################################################ -->
<!--   <joint name="end_effector" type="fixed">
    <origin rpy="0 1.570796326 0" xyz="0.000 0.000 -0.0805"/>
    <parent link="robotiq_arg2f_base_link"/>
    <child link="end_effector"/>
  </joint>
  <link name="end_effector">
    <inertial>
      <origin rpy="0 0 0" xyz="0.000 0.000 0.000"/>
      <mass value="0.001"/>
      <inertia ixx="0.0001" ixy="0" ixz="0" iyy="0.0001" iyz="0" izz="0.0001"/>
    </inertial>
  </link> -->

  <link name="link4_end">
    <inertial>
      <origin xyz="0 0 0" rpy="0 0 0" />
      <mass value="0.00001" />
      <inertia ixx="0.00001" ixy="0.00001" ixz="0.00001" iyy="0.00001" iyz="0.00001" izz="0.00001" />
    </inertial>
  </link>
  <joint name="link4_end" type="fixed">
    <origin xyz="-0.22 0 0" rpy="0 0 0" />
    <parent link="link4" />
    <child link="link4_end" />
</joint>

  <link name="link8_end">
    <inertial>
      <origin xyz="0 0 0" rpy="0 0 0" />
      <mass value="0.00001" />
      <inertia ixx="0.00001" ixy="0.00001" ixz="0.00001" iyy="0.00001" iyz="0.00001" izz="0.00001" />
    </inertial>
  </link>
  <joint name="link8_end" type="fixed">
    <origin xyz="-0.22 0 0" rpy="0 0 0" />
    <parent link="link8" />
    <child link="link8_end" />
  </joint>
  
  <gazebo>
      <joint name="constraint1" type="revolute">
          <parent>link4</parent>
          <child>link1</child>
          <pose> 0.09 0.065 -0.035 -1.57 0 0 </pose>
          <axis>
              <xyz>1 0 0</xyz>
              <limit>
                  <lower>-1</lower>
                  <upper>1</upper>
              </limit>
              <dynamics>
                  <spring_reference>0</spring_reference>
                  <spring_stiffness>0</spring_stiffness>
              </dynamics>
              <use_parent_model_frame>1</use_parent_model_frame>

          </axis>
      </joint>
  </gazebo>

  <gazebo>
        <joint name="constraint2" type="revolute">
          <parent>link8</parent>
          <child>link5</child>
          <pose> 0.09 0.065 -0.035 -1.57 0 0 </pose>
          <axis>
              <xyz>1 0 0</xyz>
              <limit>
                  <lower>-1</lower>
                  <upper>1</upper>
              </limit>
              <dynamics>
                  <spring_reference>0</spring_reference>
                  <spring_stiffness>0</spring_stiffness>
              </dynamics>
              <use_parent_model_frame>1</use_parent_model_frame>

          </axis>
      </joint>
  </gazebo>

<!-- ################################################ -->

  <transmission name="finger_joint_trans">
      <type>transmission_interface/SimpleTransmission</type>
      <joint name="finger_joint">
          <hardwareInterface>hardware_interface/PositionJointInterface</hardwareInterface>
      </joint>
      <actuator name="finger_joint_motor">
          <mechanicalReduction>1</mechanicalReduction>
          <hardwareInterface>hardware_interface/PositionJointInterface</hardwareInterface>
      </actuator>
  </transmission>
  
  <gazebo>
      <plugin filename="libroboticsgroup_gazebo_mimic_joint_plugin.so" name="mimic_robotiq_85_1">
          <joint>finger_joint</joint>
          <mimicJoint>right_outer_knuckle_joint</mimicJoint>
          <multiplier>1.0</multiplier>
          <offset>0.0</offset>
          <maxEffort>5.0</maxEffort>
          <hasPID/>
      </plugin>
      <plugin filename="libroboticsgroup_gazebo_mimic_joint_plugin.so" name="mimic_robotiq_85_2">
          <joint>finger_joint</joint>
          <mimicJoint>right_inner_knuckle_joint</mimicJoint>
          <multiplier>1.0</multiplier>
          <offset>0.0</offset>
          <maxEffort>5.0</maxEffort>
          <hasPID/>
      </plugin>
      <plugin filename="libroboticsgroup_gazebo_mimic_joint_plugin.so" name="mimic_robotiq_85_3">
          <joint>finger_joint</joint>
          <mimicJoint>left_inner_knuckle_joint</mimicJoint>
          <multiplier>1.0</multiplier>
          <offset>0.0</offset>
          <maxEffort>5.0</maxEffort>
          <hasPID/>
      </plugin>
      <plugin filename="libroboticsgroup_gazebo_mimic_joint_plugin.so" name="mimic_robotiq_85_4">
          <joint>finger_joint</joint>
          <mimicJoint>left_inner_finger_joint</mimicJoint>
          <multiplier>-1.0</multiplier>
          <offset>0.0</offset>
          <maxEffort>5.0</maxEffort>
          <hasPID/>
      </plugin>
      <plugin filename="libroboticsgroup_gazebo_mimic_joint_plugin.so" name="mimic_robotiq_85_5">
          <joint>finger_joint</joint>
          <mimicJoint>right_inner_finger_joint</mimicJoint>
          <multiplier>-1.0</multiplier>
          <offset>0.0</offset>
          <maxEffort>5.0</maxEffort>
          <hasPID/>
      </plugin>


      <plugin name="gazebo_grasp_fix" filename="libgazebo_grasp_fix.so">
          <arm>
              <arm_name>my_robotiq_gripper</arm_name>
              <palm_link>gripper_attachment_point</palm_link> 
              <!-- <palm_link>wrist_ft</palm_link>  -->
              <gripper_link> left_inner_finger </gripper_link>
              <gripper_link> right_inner_finger </gripper_link>
          </arm>
          <forces_angle_tolerance>90</forces_angle_tolerance>
          <update_rate>10</update_rate>
          <grip_count_threshold>1</grip_count_threshold>
          <max_grip_count>5</max_grip_count>
          <release_tolerance>0.0001</release_tolerance>
          <disable_collisions_on_attach>false</disable_collisions_on_attach>
          <contact_topic>__default_topic__</contact_topic>
      </plugin>

  </gazebo>
<!-- ################################################ -->

  <!-- <xacro:include filename="$(find kortex_description)/grippers/robotiq_2f_85/urdf/robotiq_2f_85_macro.xacro" /> -->

  <!-- <xacro:include filename="$(find kortex_description)/grippers/robotiq_2f_85/urdf/robotiq_arg2f_85_model_macro.xacro" /> -->

  <!-- <xacro:include filename="$(find kortex_description)/grippers/robotiq_2f_85/urdf/robotiq_2f_85_transmission_macro.xacro" /> -->

  <!-- <xacro:load_gripper parent="wrist_ft"  prefix=""/>  -->

  <!-- <xacro:load_gripper parent="wrist_ft"  prefix=""/>  -->
  <!-- <xacro:load_gripper parent="gripper_attachment_point"  prefix=""/>  -->

  <!-- <xacro:include filename="$(find kortex_description)/grippers/robotiq_2f_85/urdf/robotiq_arg2f_85_model_macro.xacro" /> -->
  <!-- <xacro:robotiq_arg2f_85 parent="gripper_attachment_point" prefix=""/> -->

  <!-- <xacro:robotiq_arg2f_85 parent="robotiq_85_base_link" prefix=""/> -->

  <!-- <xacro:load_gazebo_gripper_transmissions prefix=""/> -->

  <gazebo> 
    <plugin name="gazebo_ros_control" filename="libgazebo_ros_control.so"></plugin>
  </gazebo>


<!-- ########################################################################### -->

<!-- Camera -->
<!--   <gazebo>
    <joint name="camera_joint" type="fixed">
      <origin xyz="0.0 -0.6 1.4" rpy="1.57 1.57 0"/>
      <parent link="world" />
      <child link="link" />
    </joint>

    <plugin name="realsense_plugin" filename="librealsense_gazebo_plugin.so"/>
    <link name="link">
      <inertial>
        <mass>0.0615752</mass>
        <inertia>
          <ixx>9.108e-05</ixx>
          <ixy>0</ixy>
          <ixz>0</ixz>
          <iyy>2.51e-06</iyy>
          <iyz>0</iyz>
          <izz>8.931e-05</izz>
        </inertia>
        <pose frame=''>0 0 0 0 0 0</pose>
      </inertial>
      <self_collide>0</self_collide>
      <enable_wind>0</enable_wind>
      <kinematic>0</kinematic>
      <gravity>1</gravity>
      <visual name="visual">
        <geometry>
          <mesh>
            <uri>model://realsense_camera/meshes/realsense.dae</uri>
          </mesh>
        </geometry>
      </visual>
      <collision name='collision'>
        <laser_retro>0</laser_retro>
        <max_contacts>10</max_contacts>
        <pose frame=''>0 0 0 0 -0 0</pose>
        <geometry>
          <box>
            <size>0.0078 0.130 0.0192</size>
          </box>
        </geometry>
        <surface>
          <friction>
            <ode>
              <mu>1</mu>
              <mu2>1</mu2>
              <fdir1>0 0 0</fdir1>
              <slip1>0</slip1>
              <slip2>0</slip2>
            </ode>
            <torsional>
              <coefficient>1</coefficient>
              <patch_radius>0</patch_radius>
              <surface_radius>0</surface_radius>
              <use_patch_radius>1</use_patch_radius>
              <ode>
                <slip>0</slip>
              </ode>
            </torsional>
          </friction>
          <bounce>
            <restitution_coefficient>0</restitution_coefficient>
            <threshold>1e+06</threshold>
          </bounce>
          <contact>
            <collide_without_contact>0</collide_without_contact>
            <collide_without_contact_bitmask>1</collide_without_contact_bitmask>
            <collide_bitmask>1</collide_bitmask>
            <ode>
              <soft_cfm>0</soft_cfm>
              <soft_erp>0.2</soft_erp>
              <kp>1e+13</kp>
              <kd>1</kd>
              <max_vel>0.01</max_vel>
              <min_depth>0</min_depth>
            </ode>
            <bullet>
              <split_impulse>1</split_impulse>
              <split_impulse_penetration_threshold>-0.01</split_impulse_penetration_threshold>
              <soft_cfm>0</soft_cfm>
              <soft_erp>0.2</soft_erp>
              <kp>1e+13</kp>
              <kd>1</kd>
            </bullet>
          </contact>
        </surface>
      </collision>
      <sensor name="color" type="camera">
        <pose frame="">0 -0.046 0.004 0 0 0</pose>
        <camera name="__default__">
          <horizontal_fov>1.047</horizontal_fov>
          <image>
            <width>640</width>
            <height>480</height>
            <format>RGB_INT8</format>
          </image>
          <clip>
            <near>0.1</near>
            <far>100</far>
          </clip>
          <noise>
            <type>gaussian</type>
            <mean>0.0</mean>
            <stddev>0.007</stddev>
          </noise>
        </camera>
        <always_on>1</always_on>
        <update_rate>60</update_rate>
        <visualize>1</visualize>
      </sensor>
      <sensor name="ired1" type="camera">
        <pose frame="">0 -0.06 0.004 0 0 0</pose>
        <camera name="__default__">
          <horizontal_fov>1.047</horizontal_fov>
          <image>
            <width>640</width>
            <height>480</height>
            <format>L_INT8</format>
          </image>
          <clip>
            <near>0.1</near>
            <far>100</far>
          </clip>
          <noise>
            <type>gaussian</type>
            <mean>0.0</mean>
            <stddev>0.007</stddev>
          </noise>
        </camera>
        <always_on>1</always_on>
        <update_rate>60</update_rate>
        <visualize>0</visualize>
      </sensor>
      <sensor name="ired2" type="camera">
        <pose frame="">0 0.01 0.004 0 0 0</pose>
        <camera name="__default__">
          <horizontal_fov>1.047</horizontal_fov>
          <image>
            <width>640</width>
            <height>480</height>
            <format>L_INT8</format>
          </image>
          <clip>
            <near>0.1</near>
            <far>100</far>
          </clip>
          <noise>
            <type>gaussian</type>
            <mean>0.0</mean>
            <stddev>0.007</stddev>
          </noise>
        </camera>
        <always_on>1</always_on>
        <update_rate>60</update_rate>
        <visualize>0</visualize>
      </sensor>
      <sensor name="depth" type="depth">
        <pose frame="">0 -0.03 0.004 0 0 0</pose>
        <camera name="__default__">
          <horizontal_fov>1.047</horizontal_fov>
          <image>
            <width>640</width>
            <height>480</height>
          </image>
          <clip>
            <near>0.1</near>
            <far>100</far>
          </clip>
          <noise>
            <type>gaussian</type>
            <mean>0.0</mean>
            <stddev>0.007</stddev>
          </noise>
        </camera>
        <always_on>1</always_on>
        <update_rate>60</update_rate>
        <visualize>0</visualize>
      </sensor>
    </link>
  </gazebo>
 -->
</robot>
